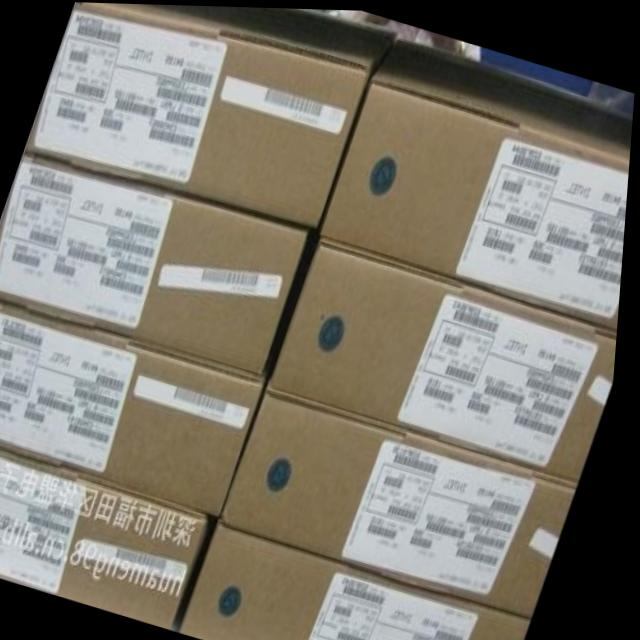box: (322, 37, 634, 328), (273, 239, 622, 481), (26, 2, 396, 229), (225, 388, 584, 613), (0, 153, 321, 371), (0, 300, 274, 516), (189, 521, 540, 640), (0, 445, 218, 627)
